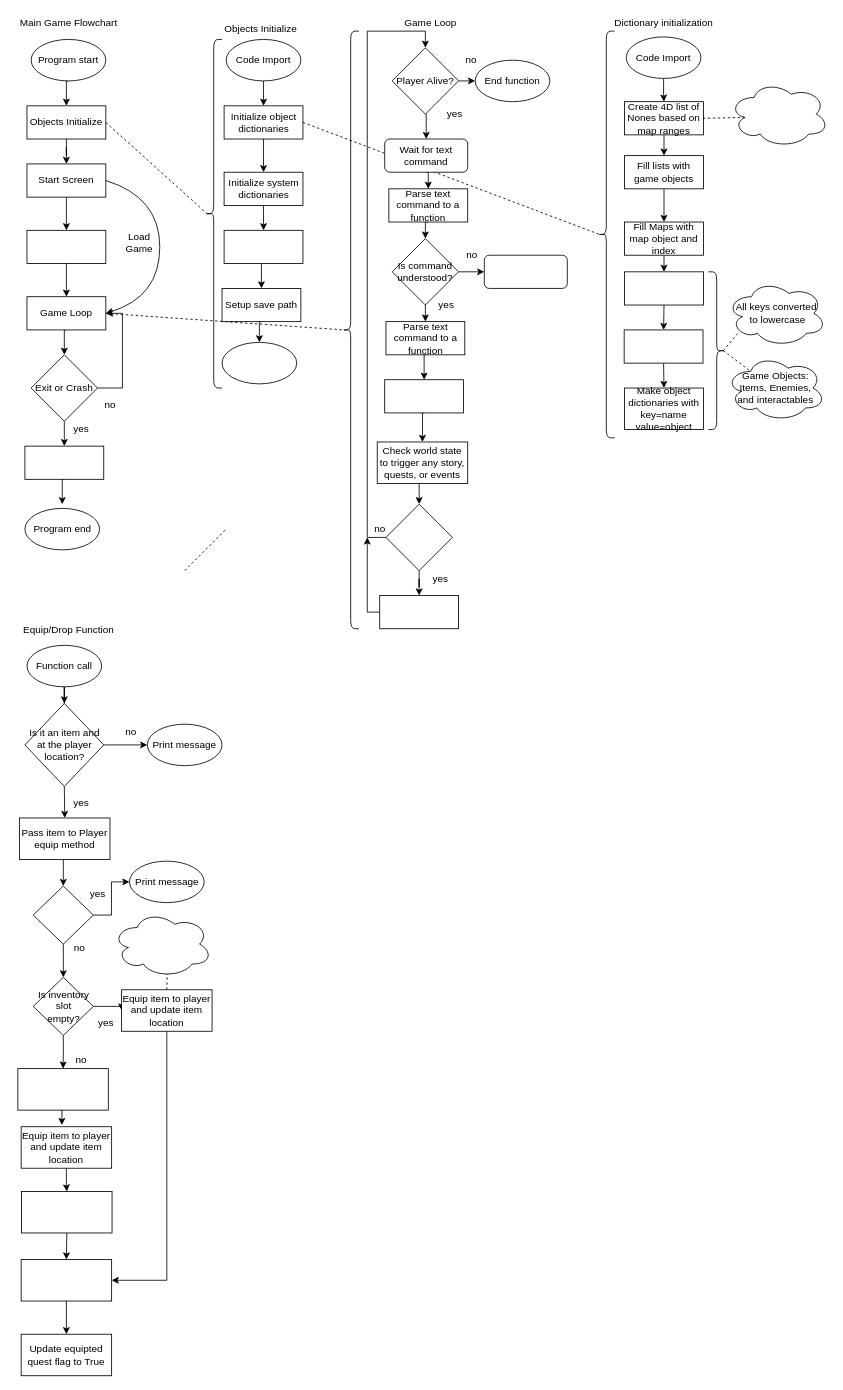
Image size: 843x1390. Some labels were removed from this diagram. Here are the shapes that lost their labels. From the top down, the centre of each, then its label:
At point 778,113: "This creates a lot of spaces to loop through".
At point 66,246: "New Game setup".
At point 263,246: "Create character".
At point 525,271: "Tell player not understood".
At point 663,288: "Loop through game objects and fill map".
At point 259,363: "Object & system dictionaries in memory".
At point 663,346: "Convert Map to tuple".
At point 424,396: "Perform game command and update the world".
At point 64,462: "Save game".
At point 418,537: "Player entering nested game?".
At point 419,612: "Load base game".
At point 62,914: "Is item already worn?".
At point 162,943: "Drop function works the same except never has any item to replace".
At point 62,1089: "Drop the item currently in slot".
At point 66,1212: "Place dropped item in location and update location".
At point 66,1280: "Remove equipted item from location and update location".
